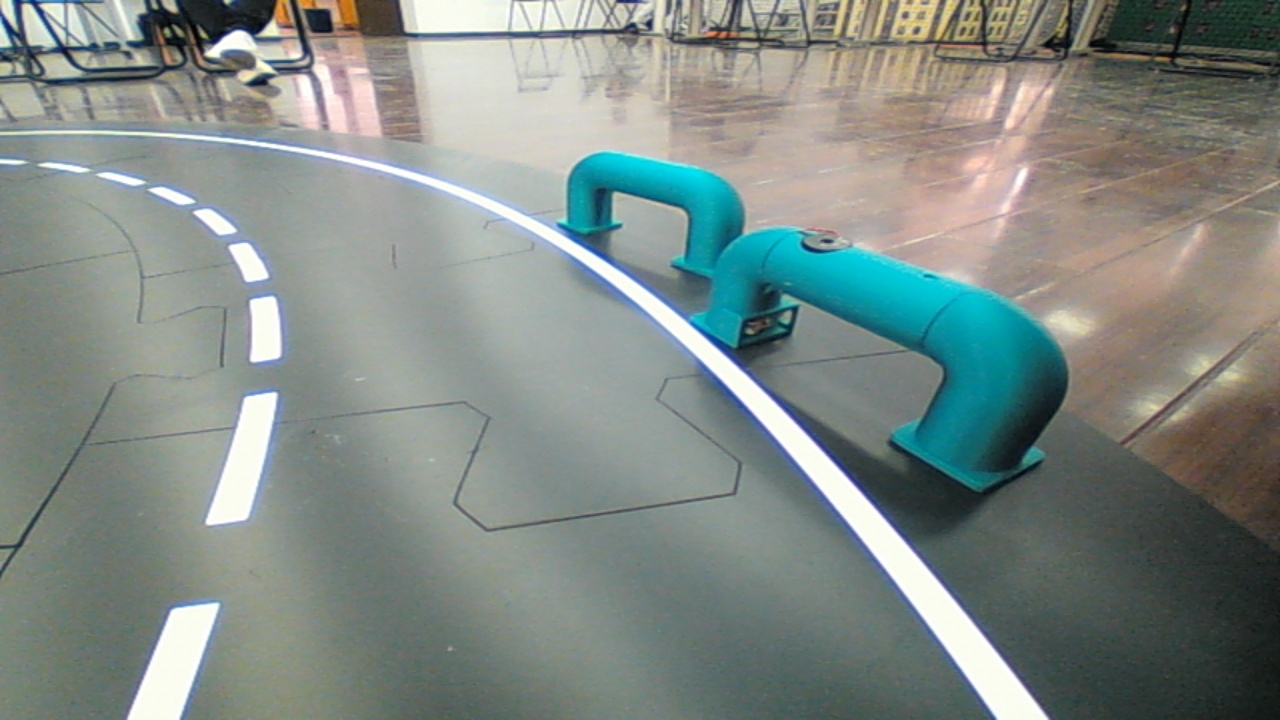No entry: (535, 135, 752, 271)
Pedestrian crossing: (709, 212, 1067, 512)
